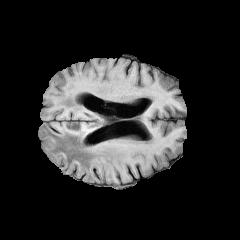glioma: (43, 94, 121, 171)
